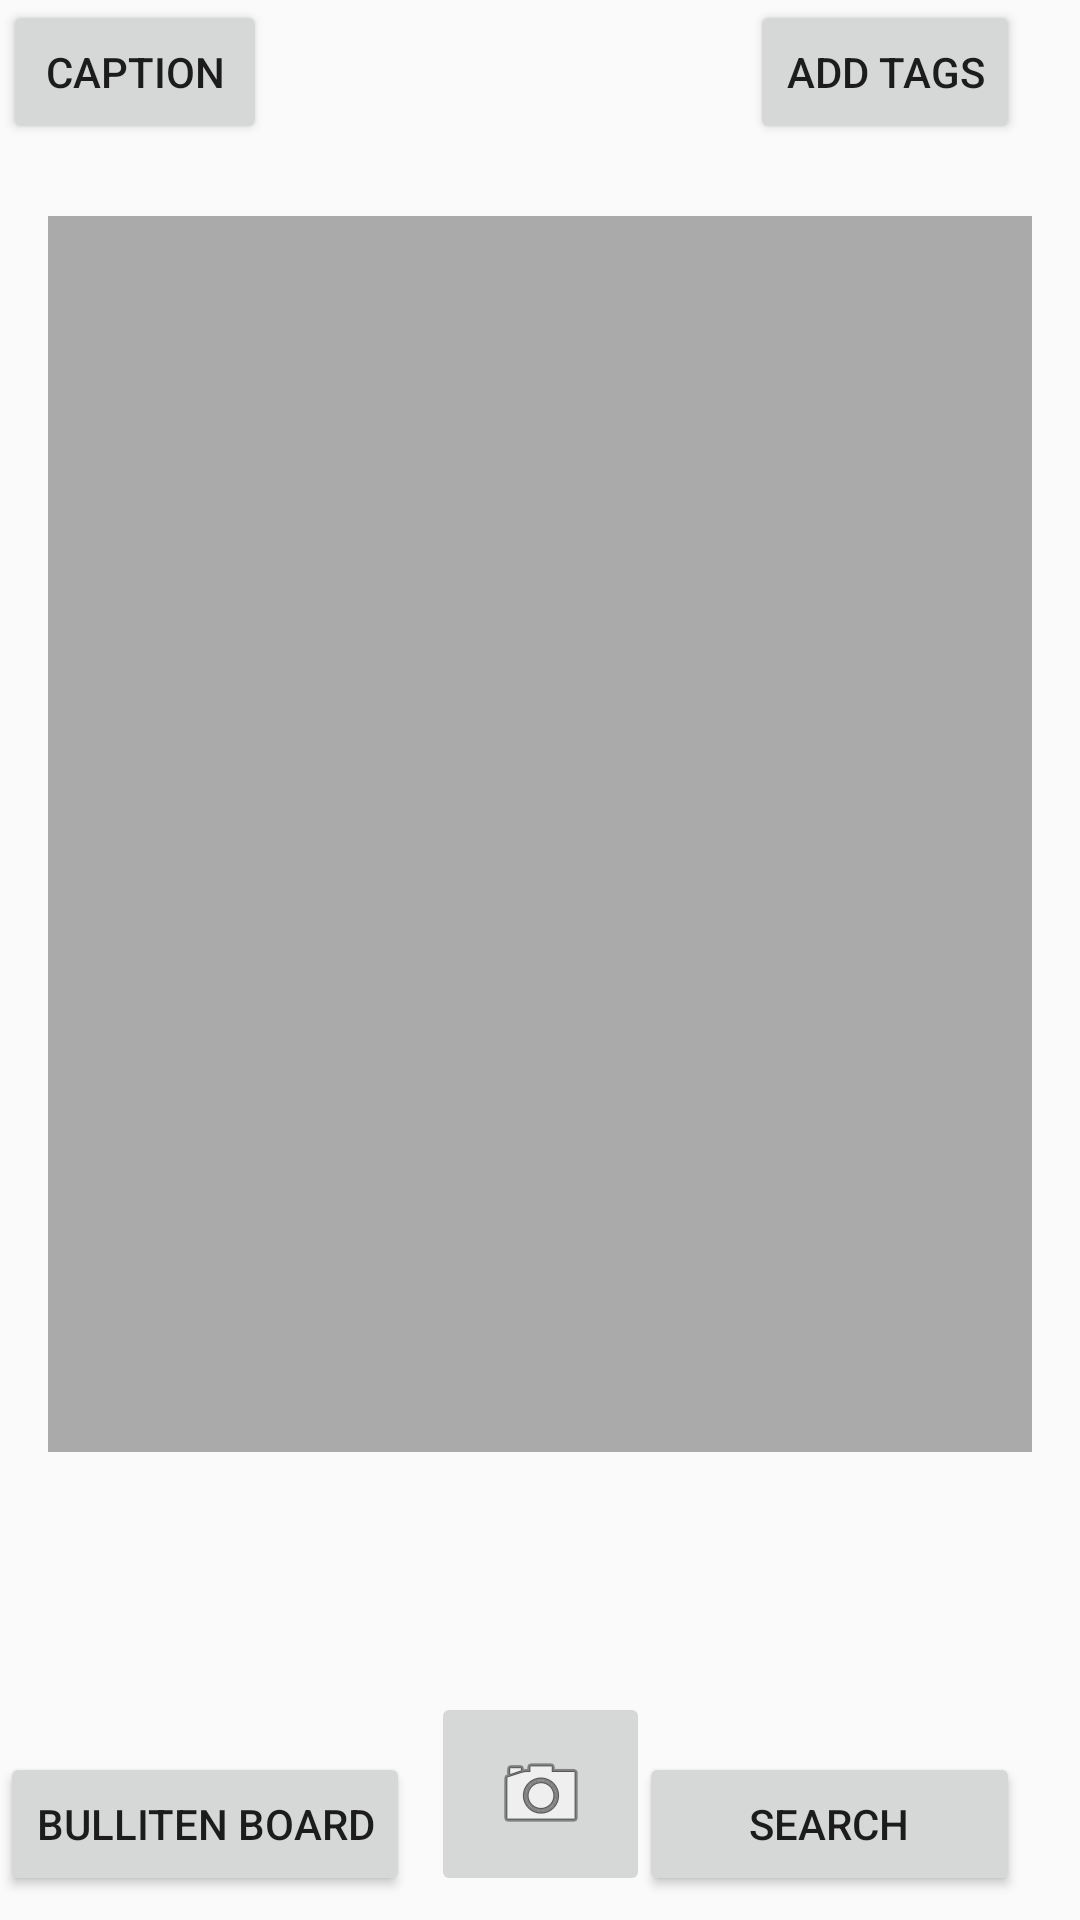

Icons on this 1080 x 1920 Android screen, each with the point to tap as [x,y]:
camera: [540,1794]
